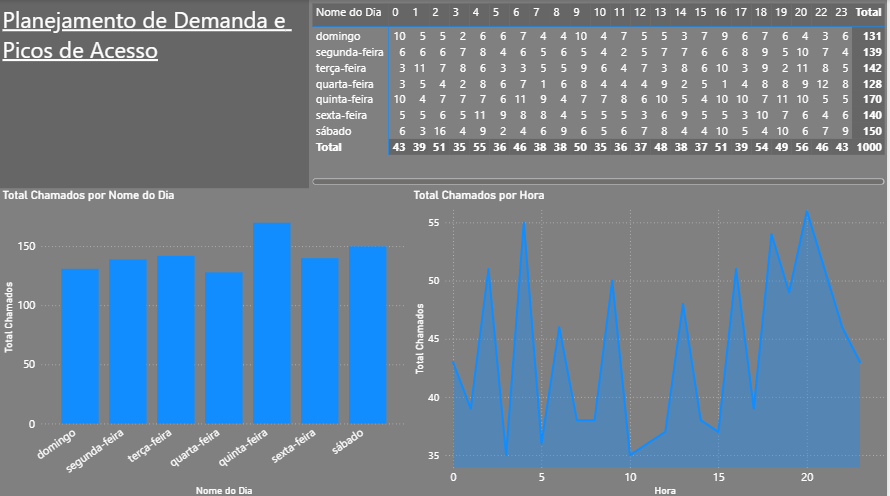

The page's visual inventory and layout, read from the dashboard file:
{"tool":"powerbi","page":{"name":"Página 5","canvas":[1280,720],"ordinal":4},"visuals":[{"type":"clusteredColumnChart","fields":{"Category":["base_helpdesk_final.Nome do Dia"],"Y":["base_helpdesk_final.Total Chamados"]},"box":[0,270.7,591.8,449.3],"z":0},{"type":"areaChart","fields":{"Y":["base_helpdesk_final.Total Chamados"],"Category":["base_helpdesk_final.Hora"]},"box":[591.8,270.7,688.3,449.3],"z":1000},{"type":"pivotTable","fields":{"Rows":["base_helpdesk_final.Nome do Dia"],"Columns":["base_helpdesk_final.Hora"],"Values":["base_helpdesk_final.Total Chamados"]},"box":[446.4,0,833.8,270.7],"z":2000},{"type":"textbox","box":[0,0,446,271],"z":3000}]}

Visuals, with their boxes in screenshot pixels (x1, y1, x2, y2), scaled from the page's 1280x720 canvas onto the 890x496 screenshot:
clusteredColumnChart - base_helpdesk_final.Nome do Dia x base_helpdesk_final.Total Chamados: [left=0, top=186, right=411, bottom=495]
areaChart - base_helpdesk_final.Total Chamados x base_helpdesk_final.Hora: [left=411, top=186, right=889, bottom=495]
pivotTable - base_helpdesk_final.Nome do Dia x base_helpdesk_final.Hora: [left=310, top=0, right=889, bottom=186]
textbox: [left=0, top=0, right=310, bottom=187]
